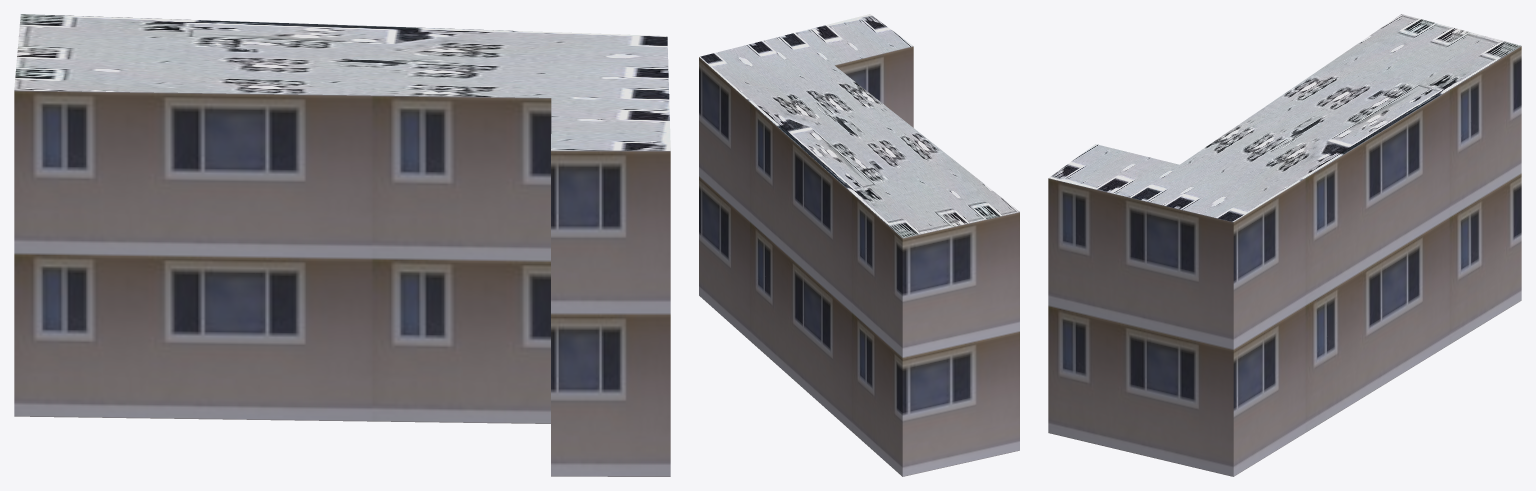
File: ResTex__3291.fbx
3 renders of one model, left to right at view 1: azimuth 30°, elevation 25°; view 2: azimuth 150°, elevation 25°; view 3: azimuth 270°, elevation 25°, orthographic. The views are drawn at different scales.
Visible parts, largest first — view 1: CityEngineMaterial_21_m, CityEngineMaterial_4_m; view 2: CityEngineMaterial_21_m, CityEngineMaterial_4_m; view 3: CityEngineMaterial_21_m, CityEngineMaterial_4_m.
Part boxes in pixels (x1=…): CityEngineMaterial_21_m: x1=14, y1=90, x2=670, y2=476; CityEngineMaterial_4_m: x1=14, y1=14, x2=670, y2=150; CityEngineMaterial_21_m: x1=699, y1=46, x2=1019, y2=476; CityEngineMaterial_4_m: x1=699, y1=14, x2=1019, y2=237; CityEngineMaterial_21_m: x1=1048, y1=46, x2=1521, y2=476; CityEngineMaterial_4_m: x1=1048, y1=14, x2=1521, y2=221.
Size of the model in its own units: 10.51 by 6 by 10.1.
2 materials, 2 textured.
